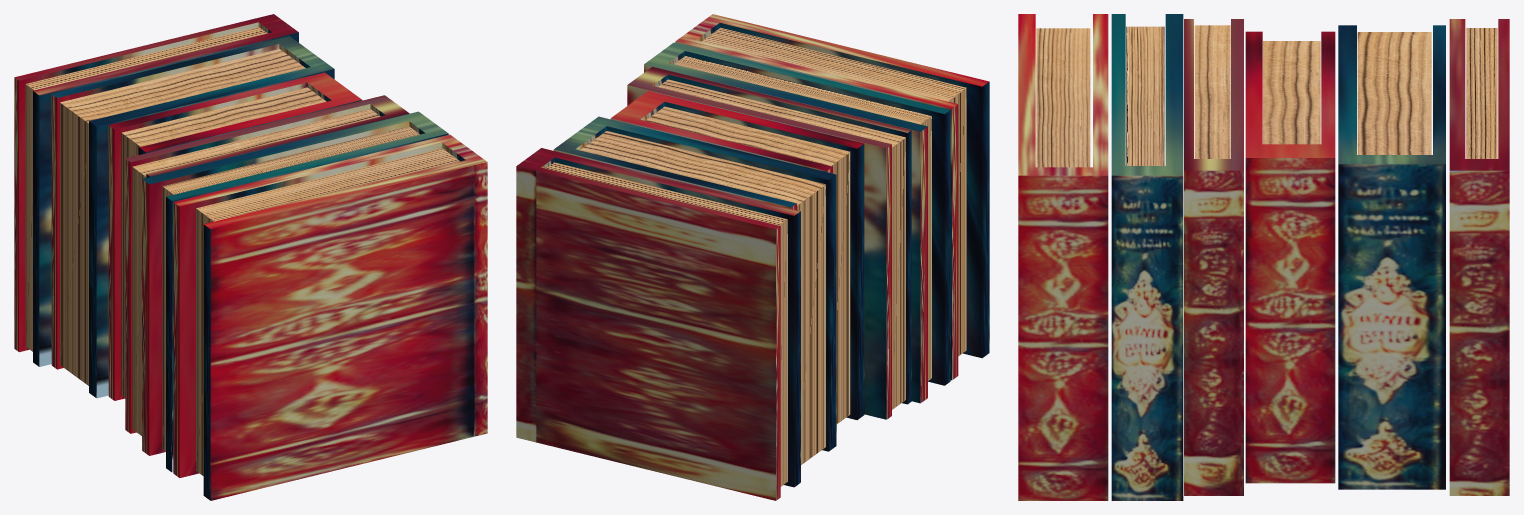
The model's file is libros2.obj.
3 renders of one model, left to right at view 1: azimuth 30°, elevation 25°; view 2: azimuth 150°, elevation 25°; view 3: azimuth 270°, elevation 25°, orthographic. The views are drawn at different scales.
Visible parts, largest first — view 1: pCube1, pCube2, pCube11, pCube6, pCube5, pCube4, pCube7, pCube3, pCube9, pCube10, pCube12, pCube8; view 2: pCube6, pCube2, pCube1, pCube3, pCube11, pCube4, pCube5, pCube10, pCube7, pCube9, pCube12, pCube8; view 3: pCube5, pCube1, pCube4, pCube2, pCube6, pCube3, pCube11, pCube7, pCube10, pCube8, pCube9, pCube12.
Part boxes in pixels (left/top/right/bottom): pCube1: left=173, top=134, right=487, bottom=500; pCube2: left=142, top=111, right=448, bottom=472; pCube11: left=60, top=49, right=305, bottom=385; pCube6: left=14, top=14, right=298, bottom=366; pCube5: left=51, top=36, right=334, bottom=398; pCube4: left=108, top=72, right=362, bottom=400; pCube7: left=196, top=148, right=459, bottom=475; pCube3: left=125, top=95, right=409, bottom=433; pCube9: left=132, top=109, right=380, bottom=435; pCube10: left=121, top=87, right=326, bottom=397; pCube12: left=25, top=27, right=267, bottom=351; pCube8: left=162, top=126, right=419, bottom=450; pCube6: left=516, top=148, right=800, bottom=500; pCube2: left=644, top=42, right=950, bottom=403; pCube1: left=675, top=14, right=989, bottom=380; pCube3: left=627, top=66, right=911, bottom=419; pCube11: left=580, top=131, right=826, bottom=464; pCube4: left=610, top=91, right=864, bottom=420; pCube5: left=553, top=116, right=836, bottom=451; pCube10: left=645, top=106, right=850, bottom=423; pCube7: left=702, top=27, right=966, bottom=356; pCube9: left=658, top=79, right=905, bottom=409; pCube12: left=546, top=162, right=787, bottom=486; pCube8: left=674, top=56, right=931, bottom=380; pCube5: left=1338, top=25, right=1445, bottom=489; pCube1: left=1018, top=14, right=1108, bottom=500; pCube4: left=1245, top=31, right=1335, bottom=483; pCube2: left=1111, top=14, right=1183, bottom=500; pCube6: left=1449, top=19, right=1509, bottom=495; pCube3: left=1184, top=19, right=1243, bottom=495; pCube11: left=1357, top=32, right=1431, bottom=154; pCube7: left=1036, top=28, right=1090, bottom=167; pCube10: left=1263, top=41, right=1320, bottom=144; pCube8: left=1126, top=26, right=1164, bottom=165; pCube9: left=1194, top=25, right=1230, bottom=158; pCube12: left=1466, top=28, right=1497, bottom=158.
Bounding box in the file's own units: 0.32 × 0.3 × 0.4105.
Materials: 2 (2 with a texture image).
